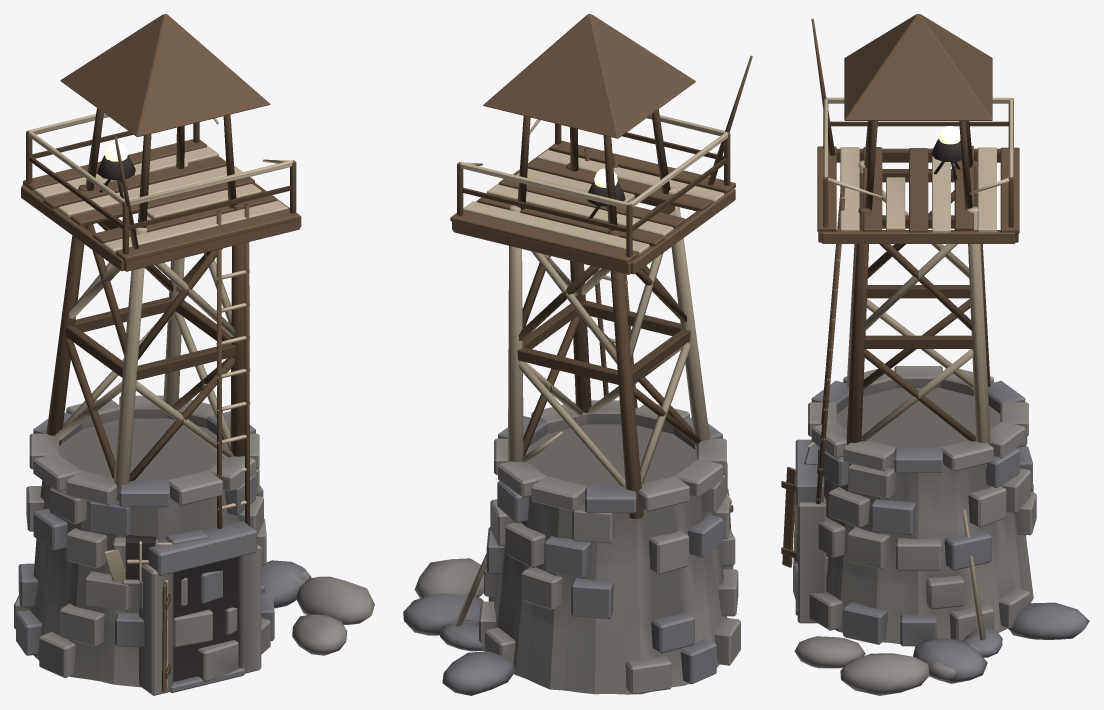
Rendered from watchtower.1bcf61df.glb.
The picture shows the model from 3 angles, left to right: view 1: azimuth 30°, elevation 25°; view 2: azimuth 150°, elevation 25°; view 3: azimuth 270°, elevation 25°; orthographic projection. The views are drawn at different scales.
Parts seen in each view (by area): view 1: watchtower; view 2: watchtower; view 3: watchtower.
Boxes of the visible parts, x1=… form: watchtower: x1=14, y1=14, x2=374, y2=695; watchtower: x1=403, y1=14, x2=752, y2=695; watchtower: x1=781, y1=14, x2=1089, y2=695.
Size of the model in its own units: 6.13 by 11.66 by 5.39.
